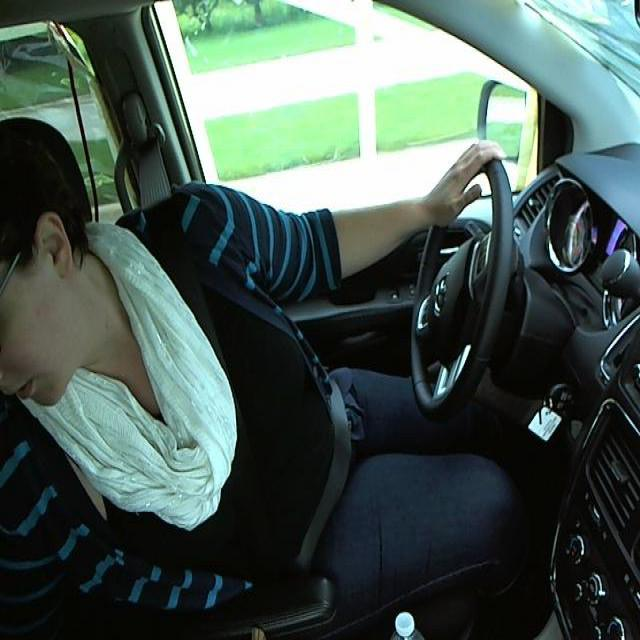seatbelt: (153, 227, 351, 582)
